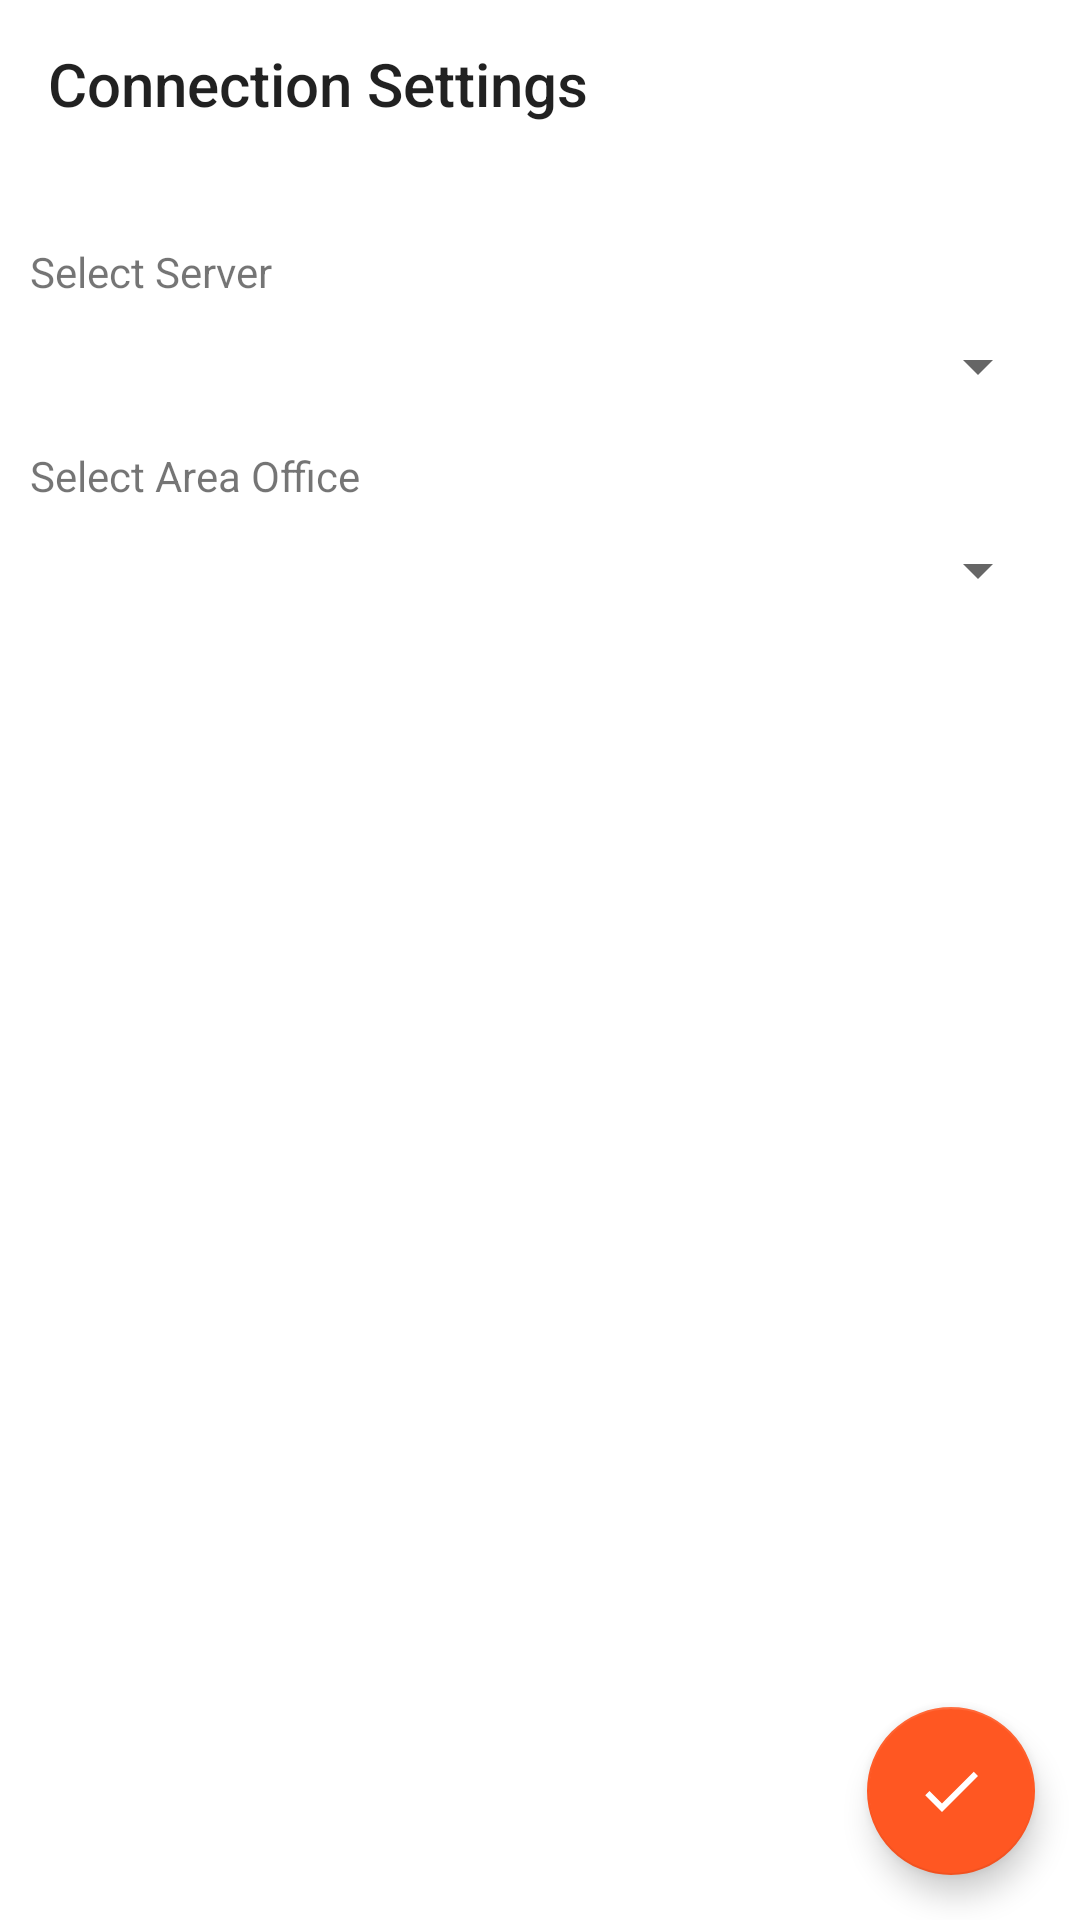

Screen size 1080*1920. Icon name, then its box in pixels as (x1, y1, x2, y2):
check: (867, 1707, 1035, 1875)
